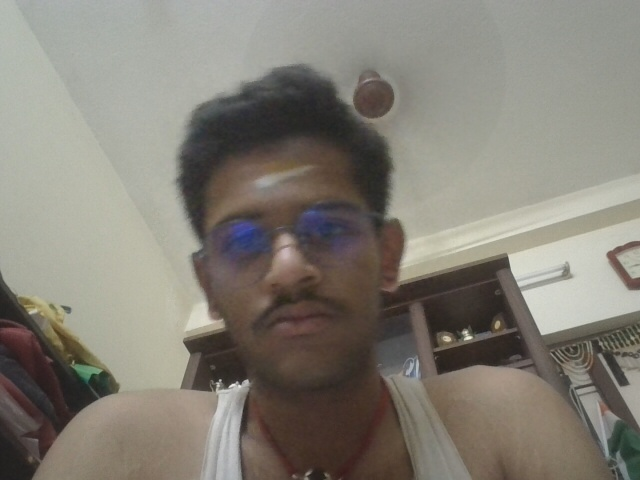real: (174, 144, 403, 373)
